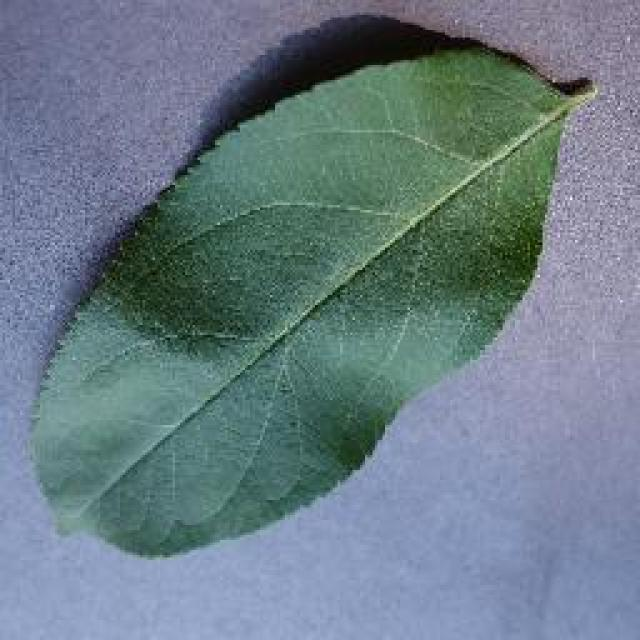Apple___healthy: (27, 46, 602, 563)
